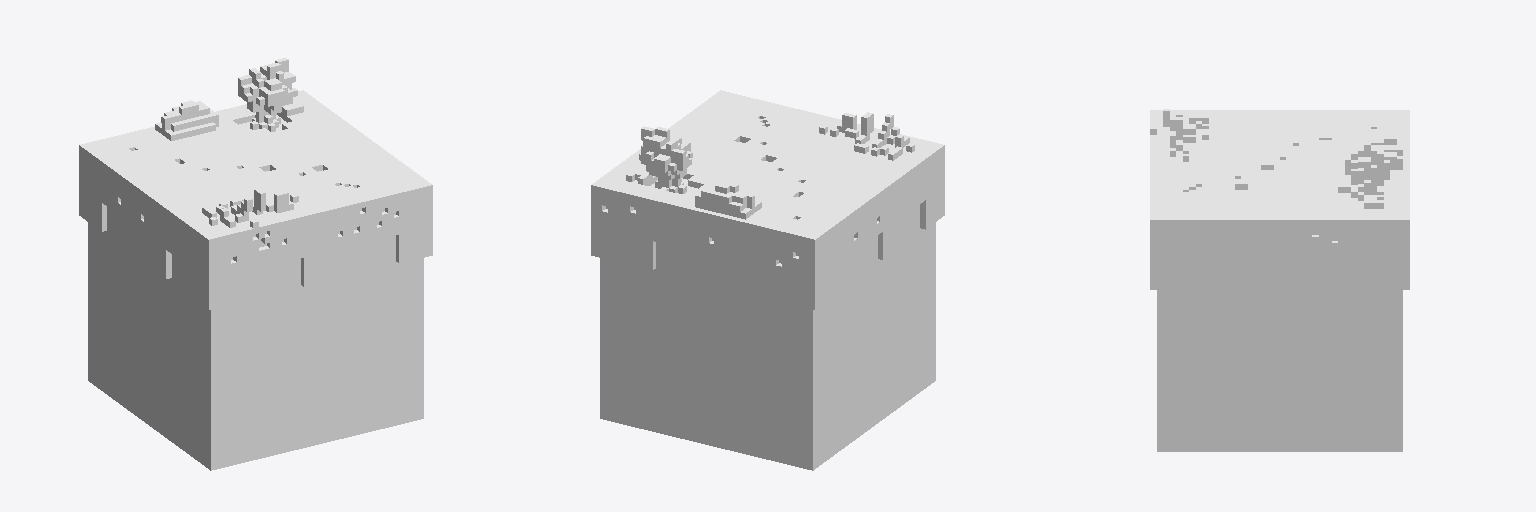
The model's file is tile_base_top_2.obj.
The picture shows the model from 3 angles: view 1: azimuth 30°, elevation 25°; view 2: azimuth 150°, elevation 25°; view 3: azimuth 270°, elevation 25°; orthographic projection.
Visible parts, largest first — view 1: tile_base_top_2; view 2: tile_base_top_2; view 3: tile_base_top_2.
Boxes of the visible parts, x1,y1,x2,y2 form: tile_base_top_2: [79, 58, 432, 470]; tile_base_top_2: [591, 90, 944, 470]; tile_base_top_2: [1150, 109, 1409, 451].
Bounding box in the file's own units: 40 × 49 × 40.